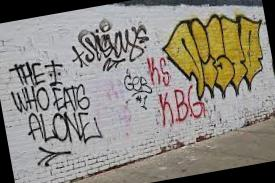graffiti: (5, 48, 106, 174), (155, 2, 273, 108), (66, 17, 150, 82), (140, 47, 203, 130), (118, 68, 158, 110)
